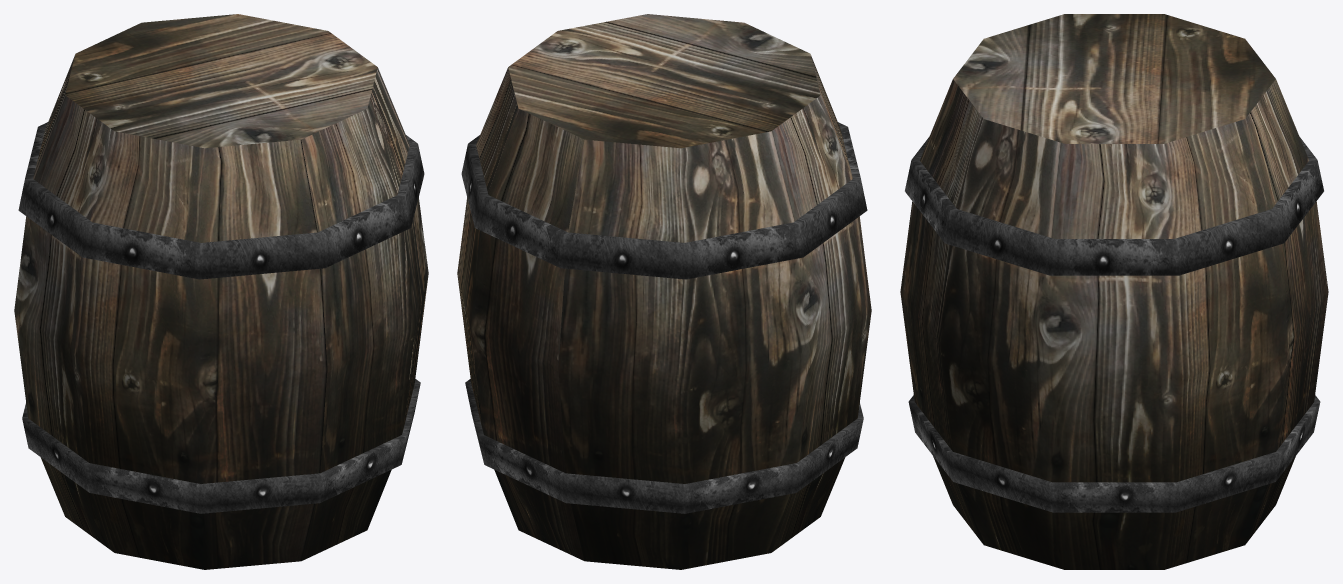
Rendered from beczka.fbx.
3 views of the same model, side by side, from view 1: azimuth 30°, elevation 25°; view 2: azimuth 150°, elevation 25°; view 3: azimuth 270°, elevation 25° (orthographic).
Visible parts, largest first — view 1: Cylinder_003; view 2: Cylinder_003; view 3: Cylinder_003.
Boxes of the visible parts, x1=… form: Cylinder_003: x1=14, y1=14, x2=428, y2=569; Cylinder_003: x1=457, y1=14, x2=871, y2=569; Cylinder_003: x1=900, y1=14, x2=1328, y2=569.
Size of the model in its own units: 2.06 by 2.38 by 2.16.
